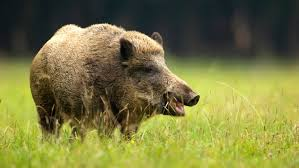boar: (28, 22, 202, 142)
